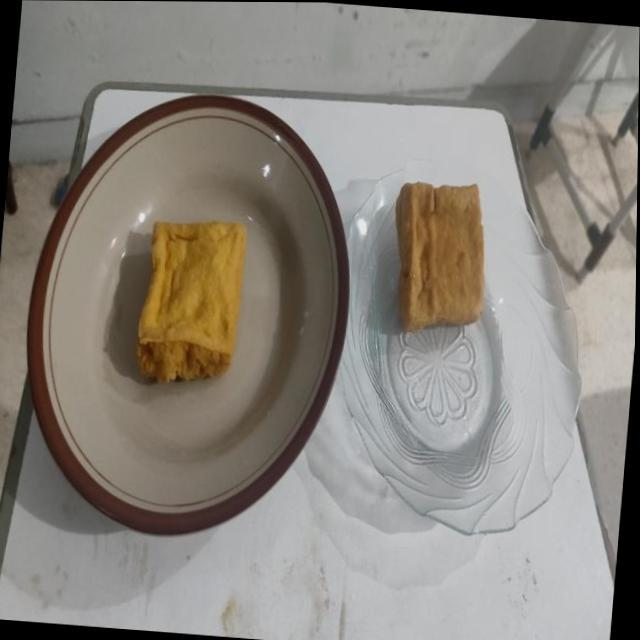tahu_goreng: (137, 222, 246, 382), (395, 182, 484, 332)
